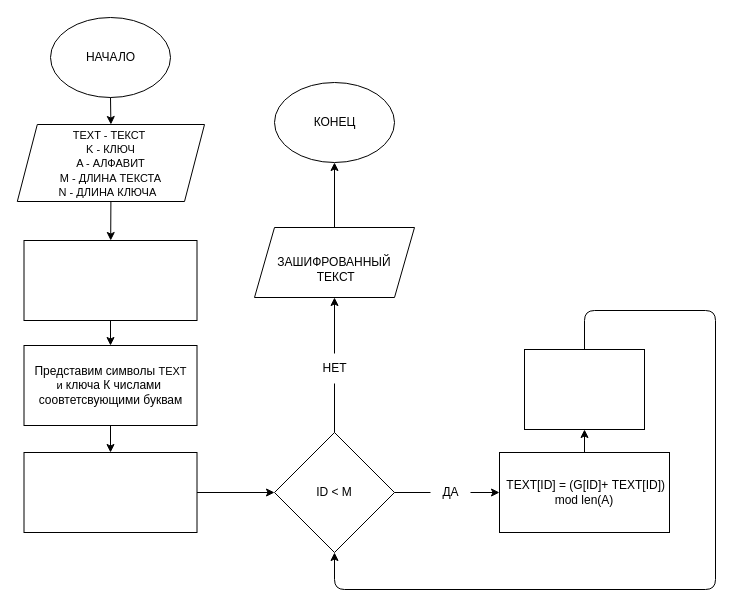
Some shapes in this 742 by 615 pixel diagram are drawn without their labels. Here are the shapes that lost their labels. From the top down, the centre of each, then its label:
At (110,280): "Заменим буквы алфавита числами от 0 до len(A)".
At (584,389): "ID++".
At (110,492): "Запишем гамма ключ G = К * [(M-1)/N+1] ID = 0".
